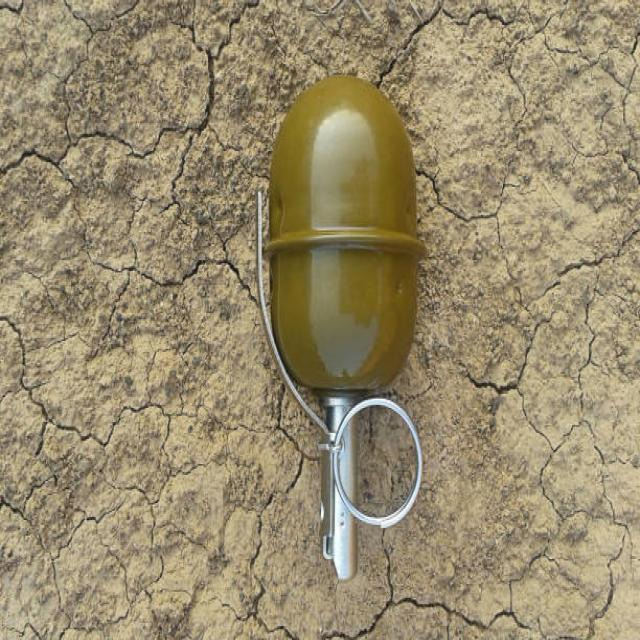grenade: (256, 69, 435, 578)
